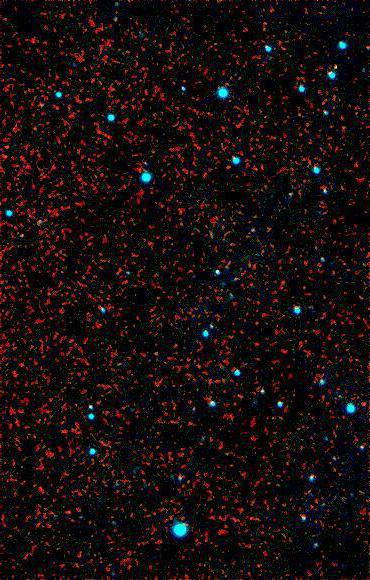star: (320, 55, 350, 85)
